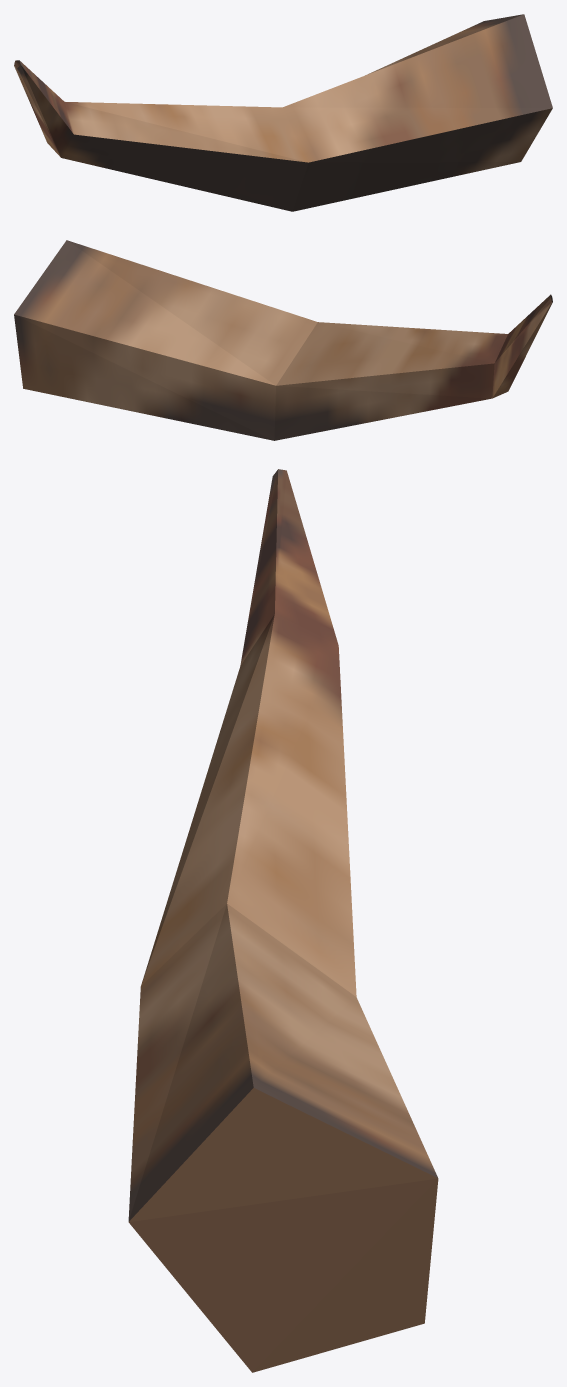
File: SM_Stock_boar_tusk.fbx
3 renders of one model, top to bottom at view 1: azimuth 30°, elevation 25°; view 2: azimuth 150°, elevation 25°; view 3: azimuth 270°, elevation 25°, orthographic. The views are drawn at different scales.
Parts seen in each view (by area): view 1: Stock_boar_tusk_Visual; view 2: Stock_boar_tusk_Visual; view 3: Stock_boar_tusk_Visual.
Boxes of the visible parts, x1,y1,x2,y2 form: Stock_boar_tusk_Visual: [14, 14, 552, 211]; Stock_boar_tusk_Visual: [14, 240, 552, 440]; Stock_boar_tusk_Visual: [128, 469, 438, 1372].
Bounding box in the file's own units: 0.2643 × 0.1082 × 0.0709.
